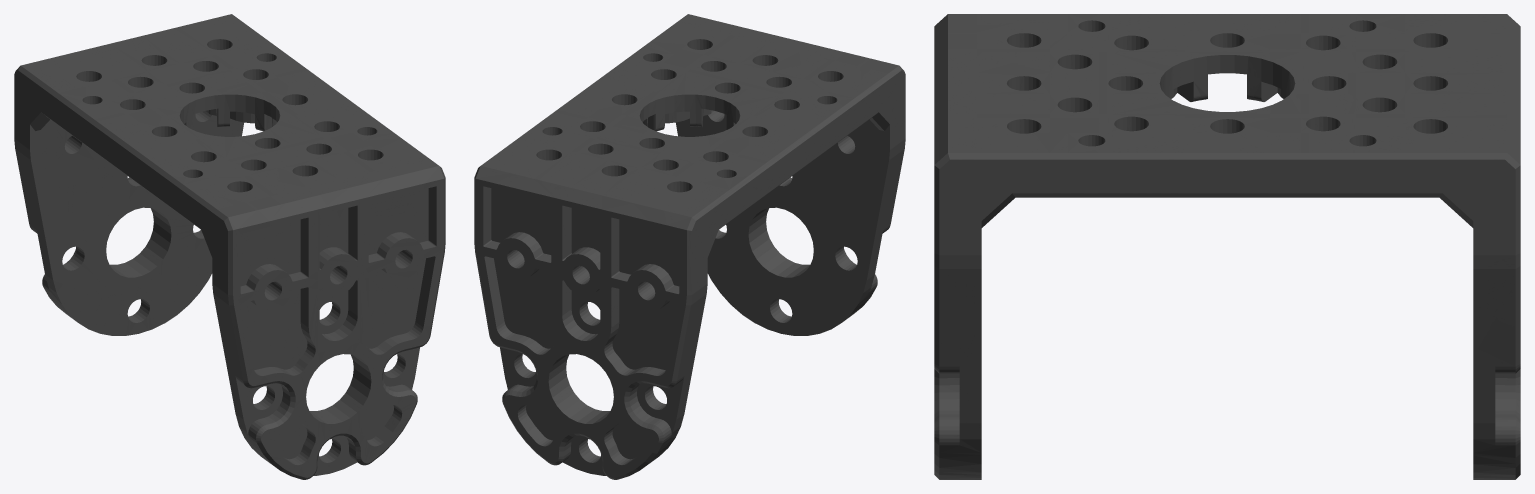
Rendered from tip_base.dae.
The picture shows the model from 3 angles, left to right: view 1: azimuth 30°, elevation 25°; view 2: azimuth 150°, elevation 25°; view 3: azimuth 270°, elevation 25°; orthographic projection. The views are drawn at different scales.
Visible parts, largest first — view 1: node; view 2: node; view 3: node.
Part boxes in pixels (<box>): node: <box>14,14,445,479</box>; node: <box>474,14,905,479</box>; node: <box>934,14,1520,479</box>.
Bounding box in the file's own units: 0.02 × 0.025 × 0.0346.
Materials: 1 (1 with a texture image).
